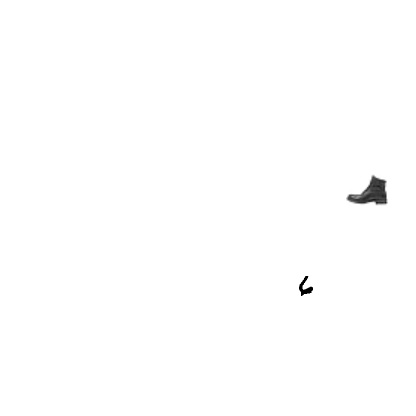6: (291, 273, 319, 301)
Ankle_boot: (346, 169, 388, 211)
